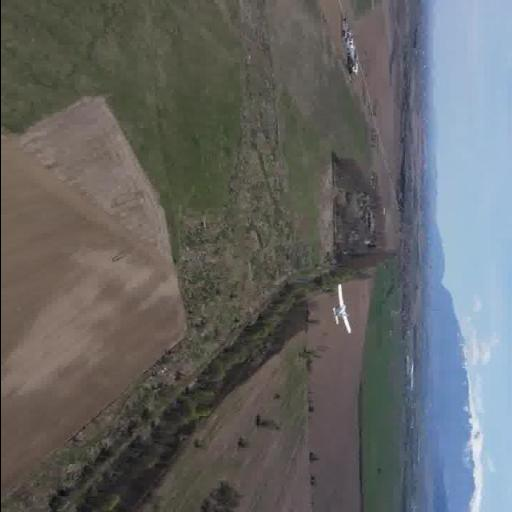uav: (322, 282, 358, 336)
